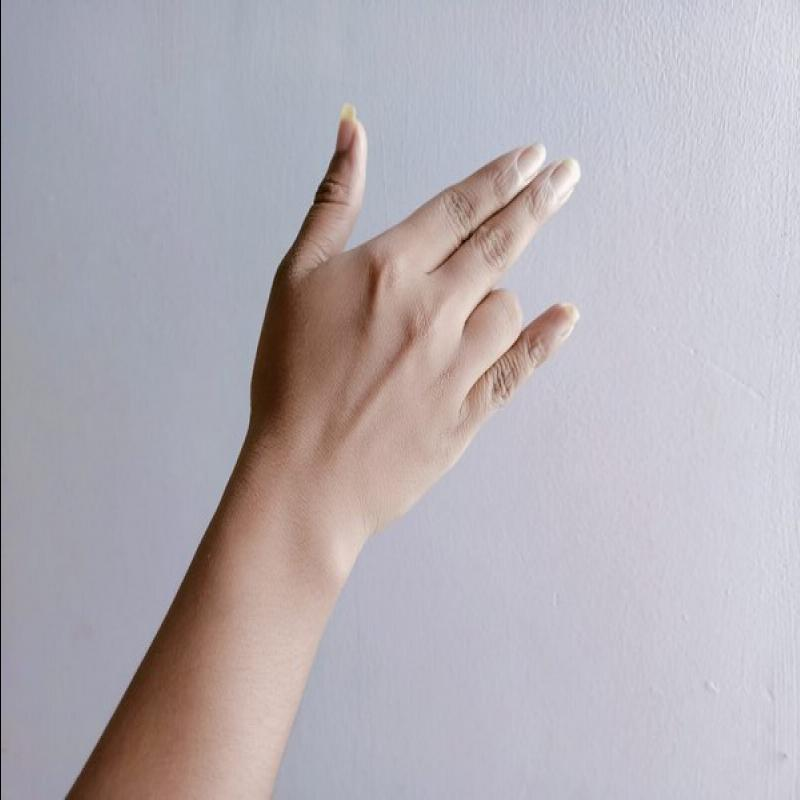Pathaaka: (217, 105, 634, 546)
